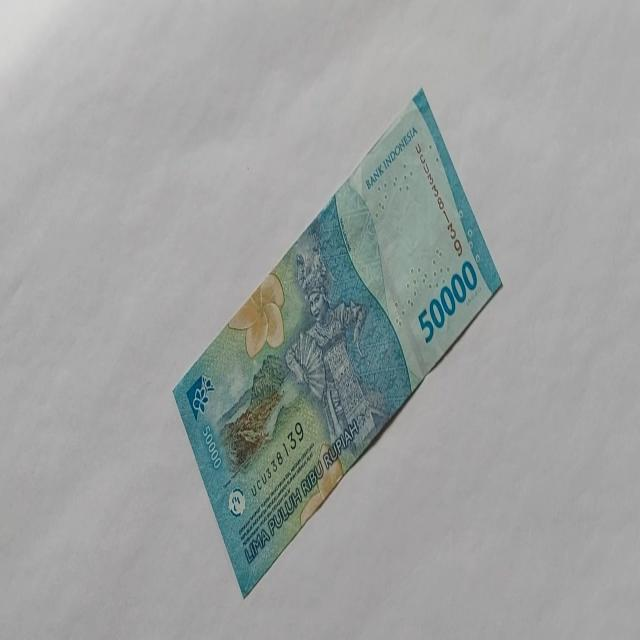lima puluh ribu rupiah: (171, 86, 503, 598), (417, 259, 478, 345), (364, 124, 418, 192)
